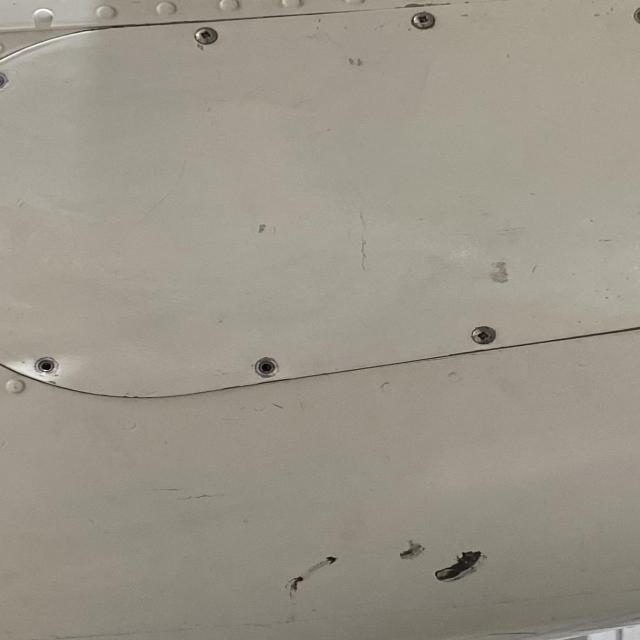Fastener Damage: (248, 351, 286, 382), (36, 356, 64, 378), (0, 68, 17, 94), (633, 1, 640, 28)
